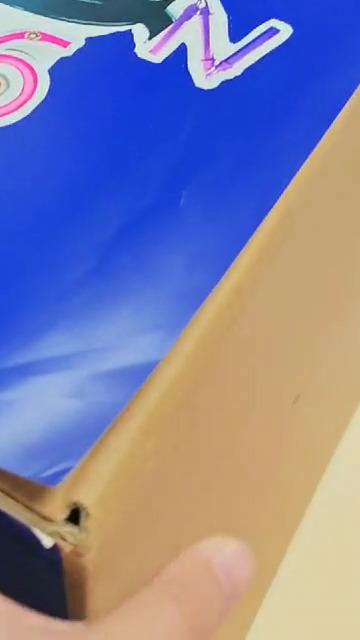B_R1: (0, 0, 360, 125)
